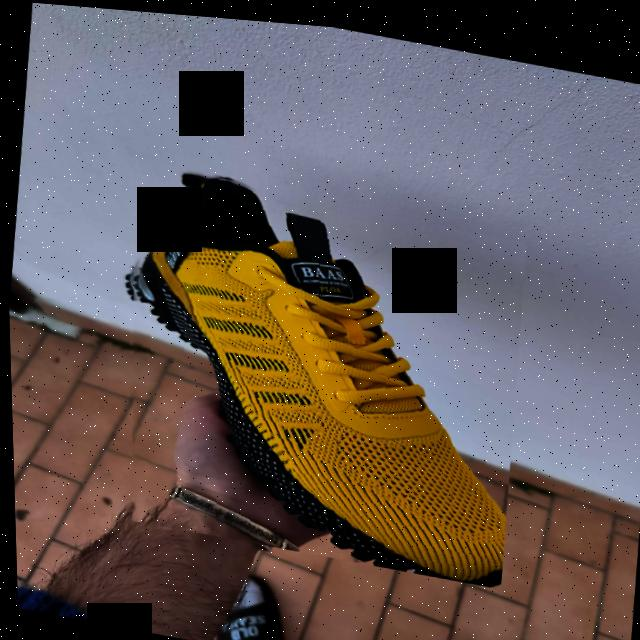shoe: (95, 154, 535, 583)
